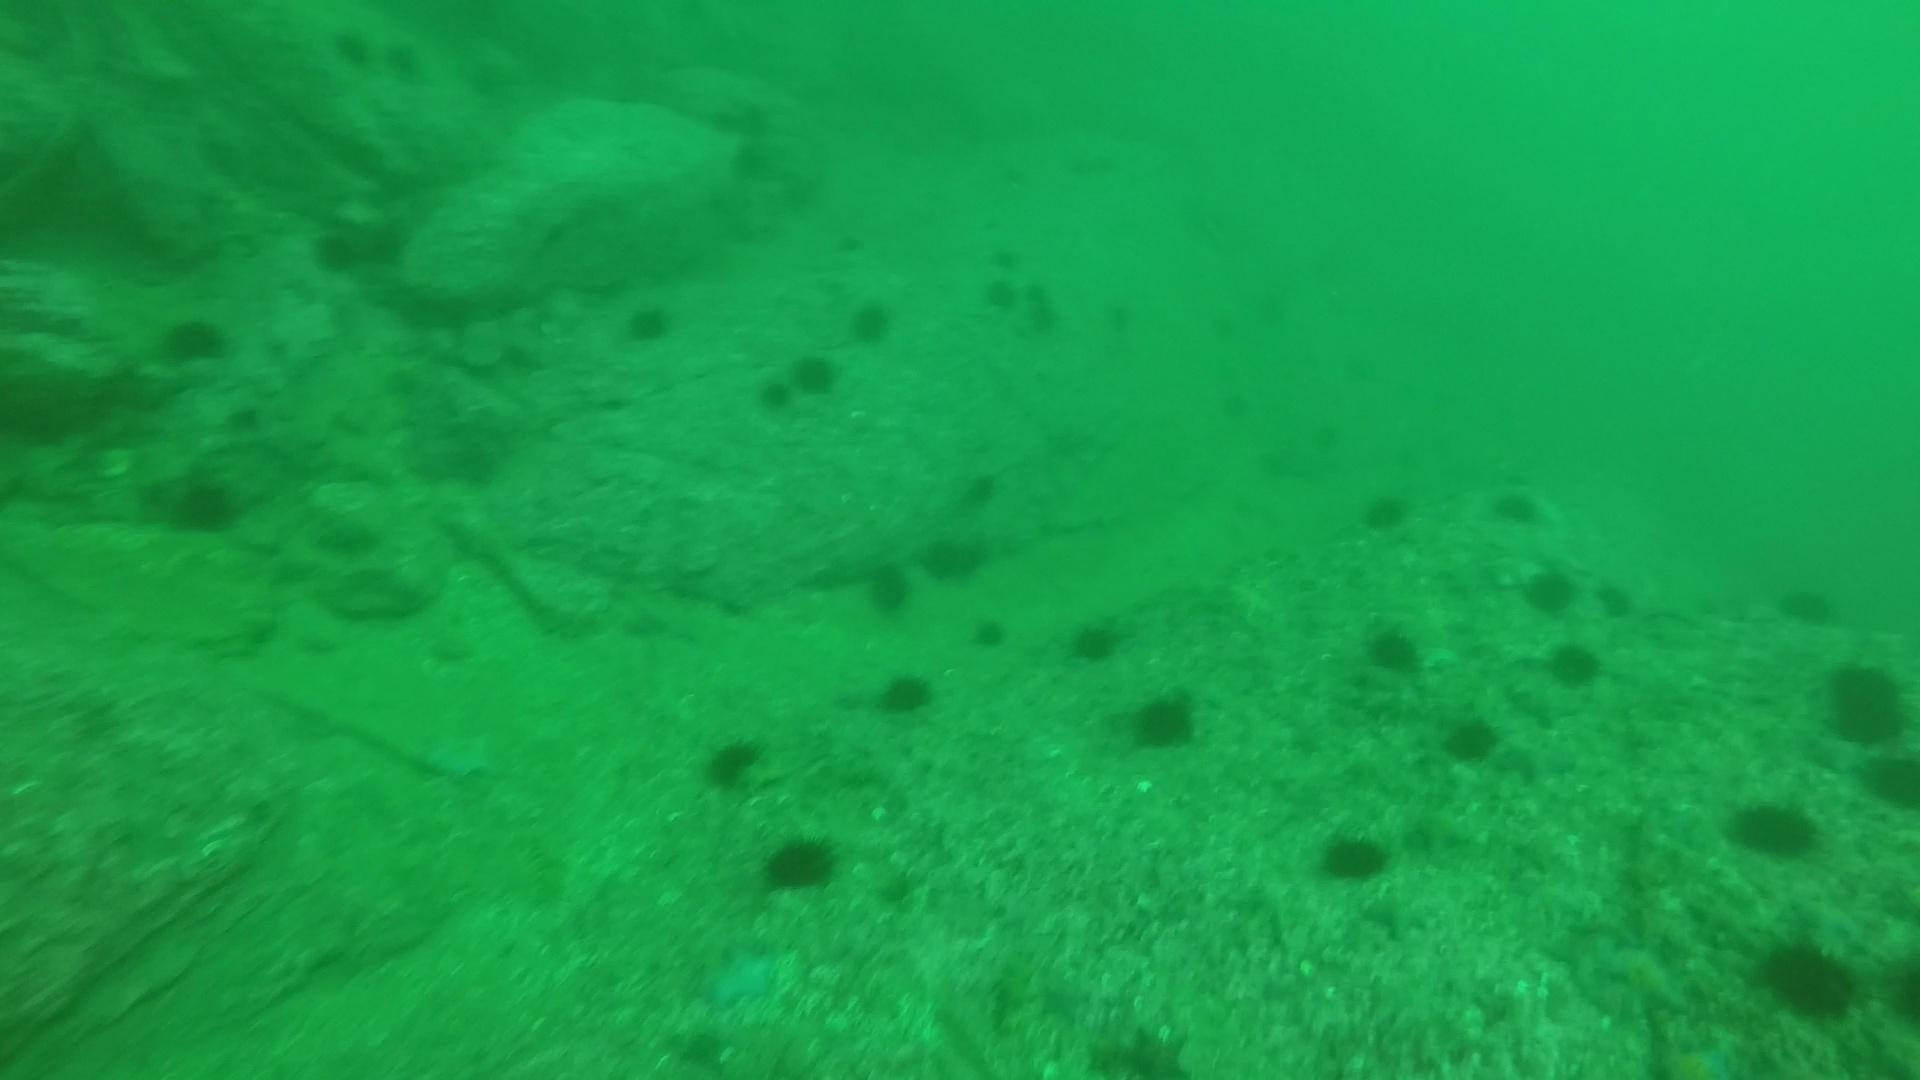echinus: (1754, 932, 1863, 1025), (1820, 658, 1912, 749), (1724, 793, 1822, 864), (160, 467, 245, 539), (758, 829, 843, 897), (1125, 687, 1203, 754), (1313, 825, 1393, 887), (156, 311, 233, 371), (698, 731, 767, 794), (1360, 618, 1428, 679), (1859, 746, 1920, 815), (919, 529, 989, 587), (1437, 709, 1505, 767), (309, 218, 368, 278), (1519, 560, 1581, 618), (858, 558, 916, 618), (1544, 637, 1606, 694), (873, 667, 938, 721), (1775, 578, 1840, 632), (1065, 612, 1127, 667), (781, 349, 843, 405), (618, 298, 678, 349), (319, 21, 372, 75), (351, 219, 404, 272), (754, 364, 808, 415), (1487, 483, 1545, 530), (845, 295, 897, 347), (1360, 487, 1414, 535), (968, 612, 1010, 651), (978, 272, 1015, 311), (741, 98, 771, 138), (713, 96, 742, 137), (731, 142, 760, 183), (1027, 305, 1067, 334), (1022, 280, 1058, 309), (829, 225, 865, 255), (1100, 303, 1135, 332), (1218, 396, 1254, 425), (1340, 352, 1375, 381), (967, 472, 1001, 501), (1203, 313, 1237, 342), (1305, 423, 1340, 452), (1255, 290, 1290, 319), (992, 236, 1026, 265)
starfish: (1586, 934, 1692, 1021), (696, 940, 789, 1015), (414, 723, 502, 785), (1495, 732, 1582, 789), (1505, 674, 1589, 731), (1360, 889, 1432, 942)
